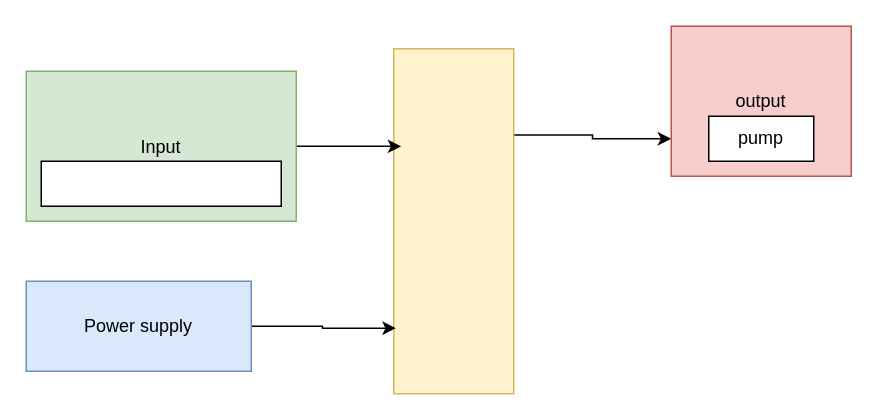
This 878x420 diagram has some shape labels left out. Here are the shapes that lost their labels. From the top down, the centre of each, then its label:
At [160,183]: "GD-100F".
At [453,220]: "atmega-328".
